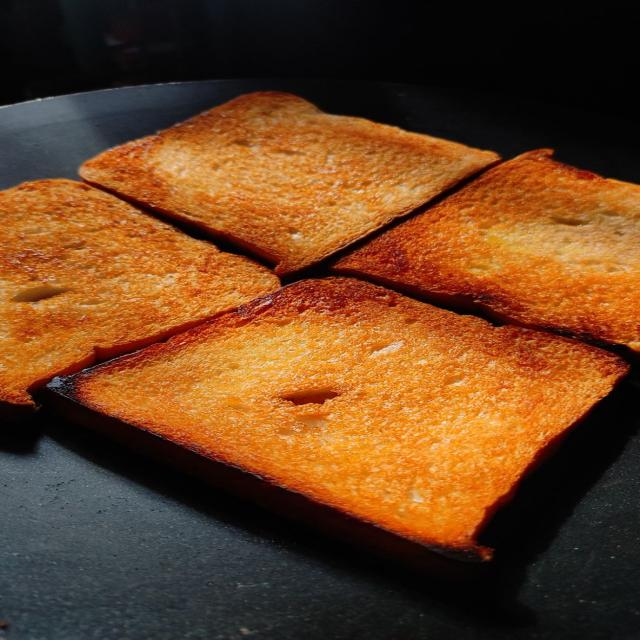toast bread: (50, 278, 627, 558), (80, 92, 499, 274), (0, 180, 279, 417), (335, 150, 639, 352)
